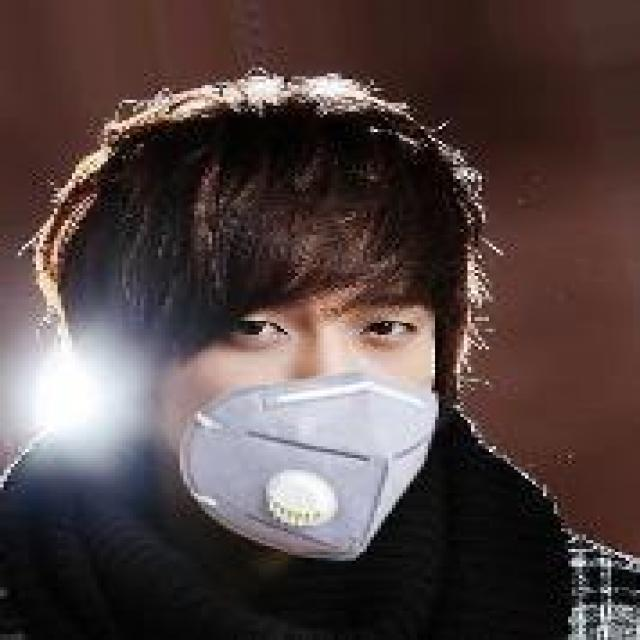mask: (93, 65, 507, 581)
